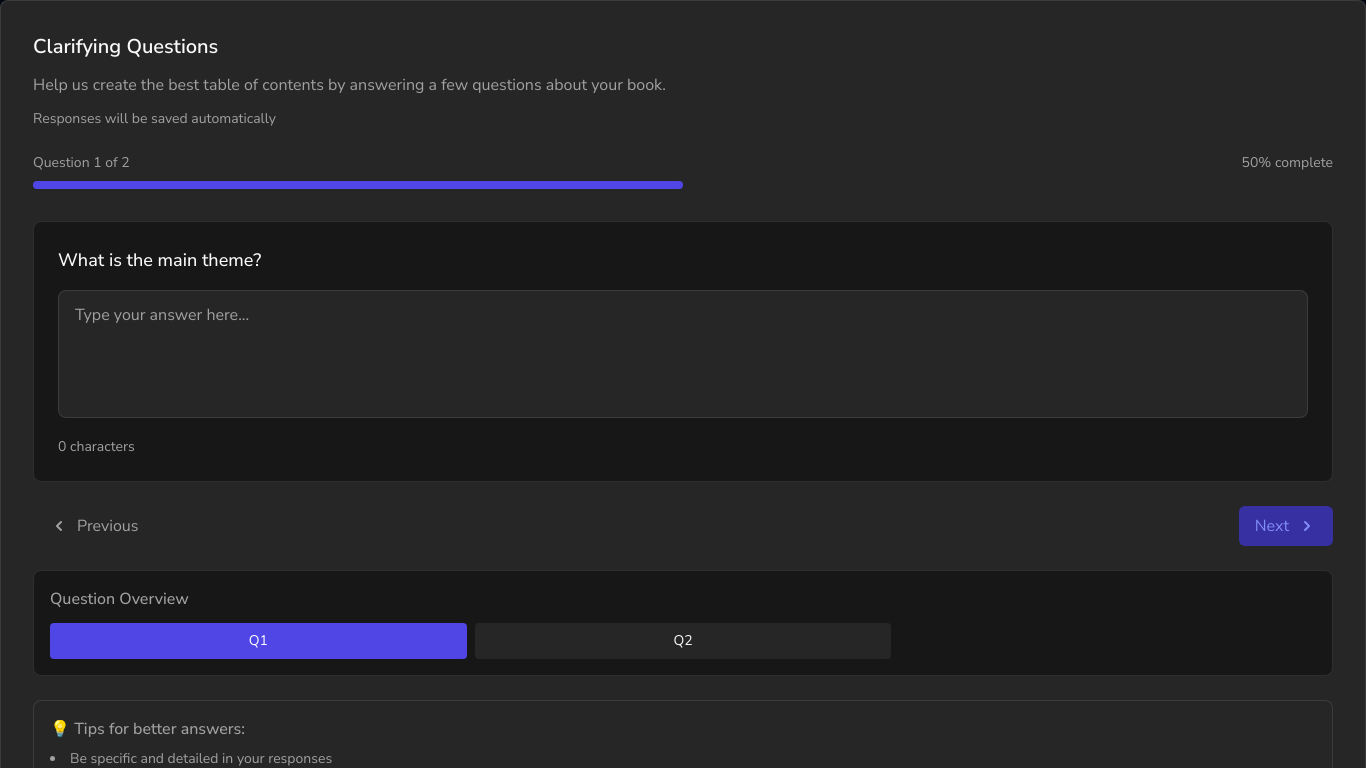
Scenario: ClarifyingQuestions - navigation › handlePrevious goes back to the first question from second
// Advance to Q2
Type "A1" into the text box with placeholder "Type your answer here...".
click(683, 354); type("A1")  # box [58,290,1308,418]
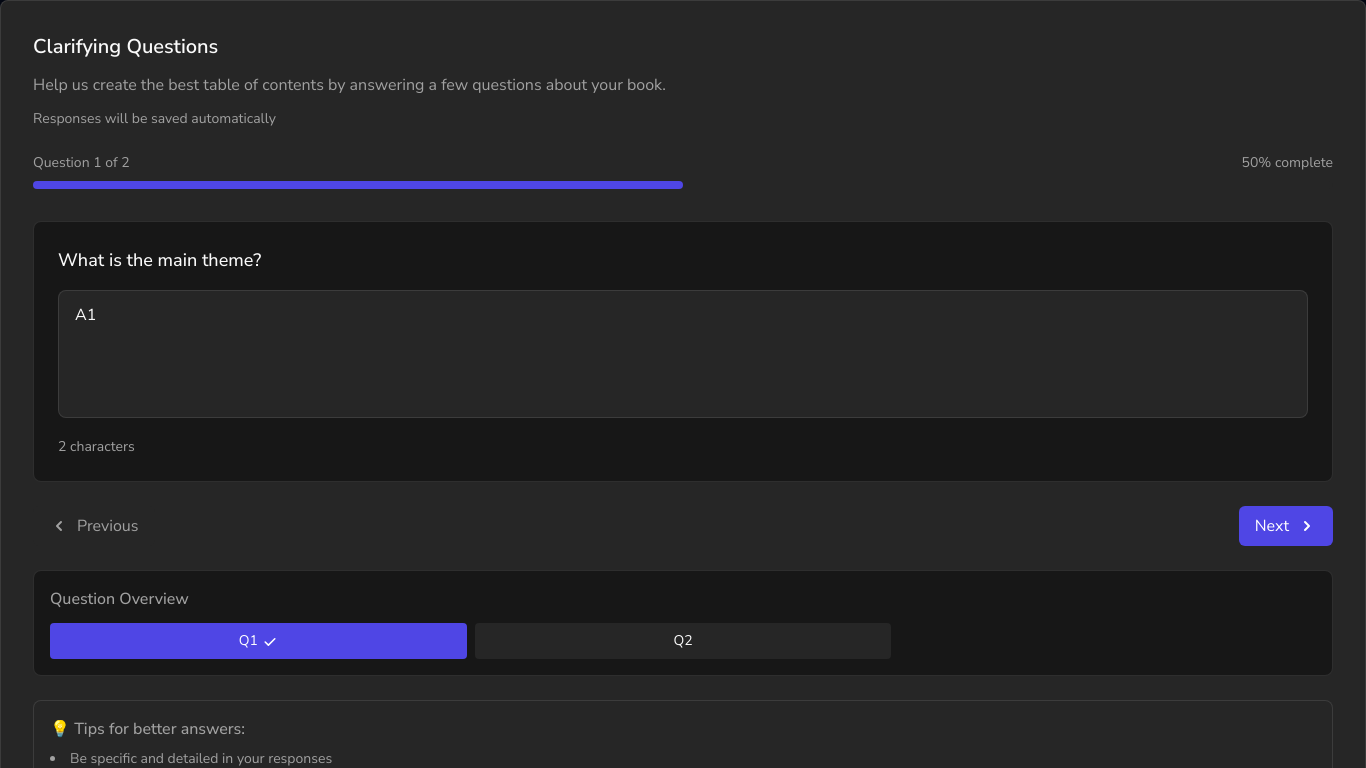
Click the button "Next".
click(1286, 526)  # box [1239,506,1333,546]
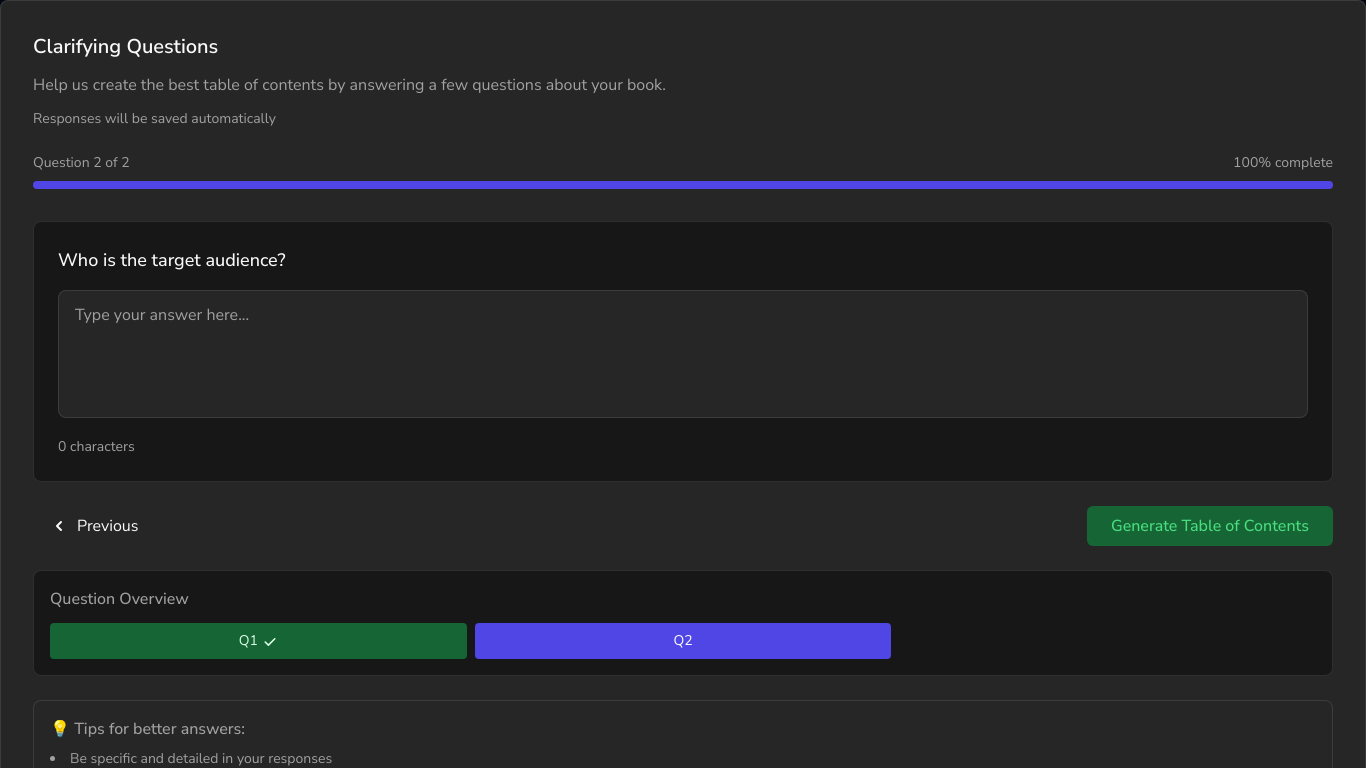
Expected: the button "Previous" is enabled
Click the button "Previous".
click(94, 526)  # box [33,506,154,546]
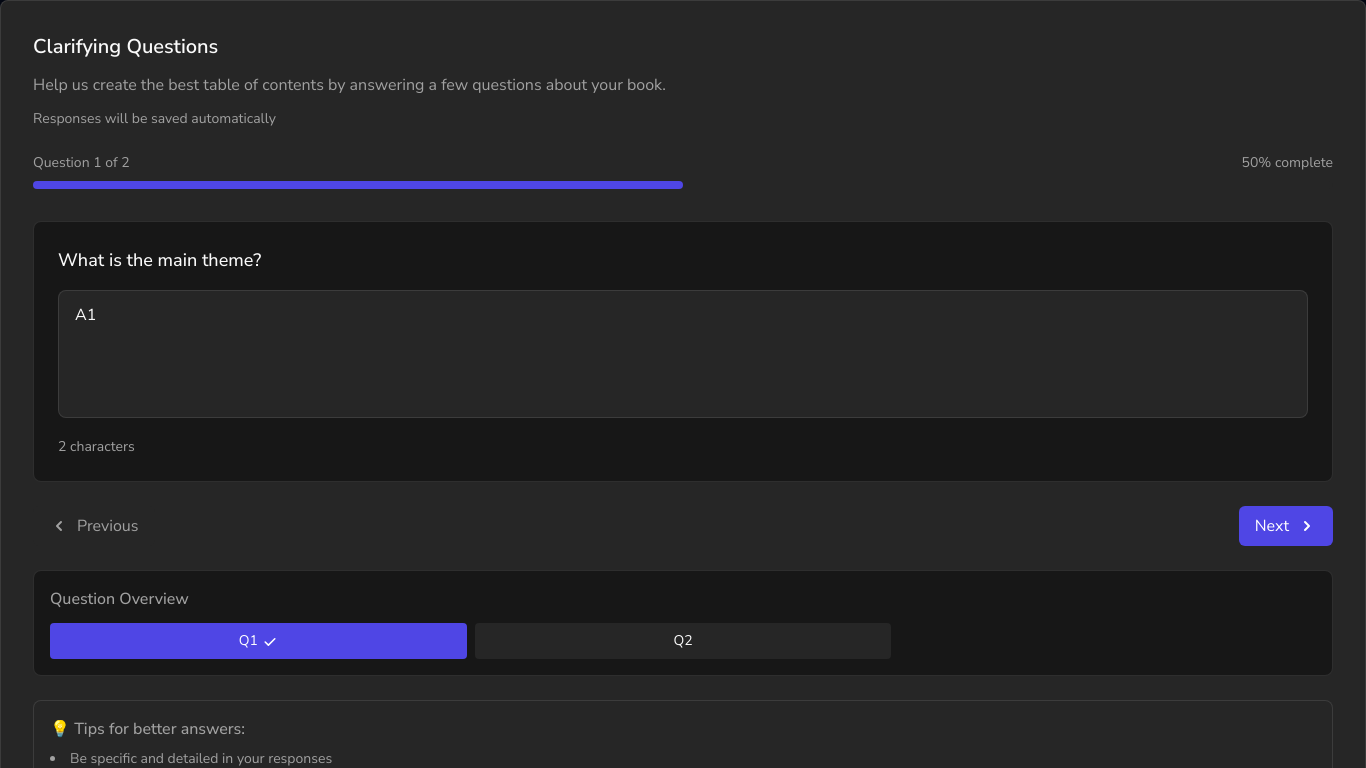
Expected: the heading "What is the main theme?" is shown, [58,248,261,272]
Expected: the text "Question 1 of 2" is shown, [33,153,130,173]
